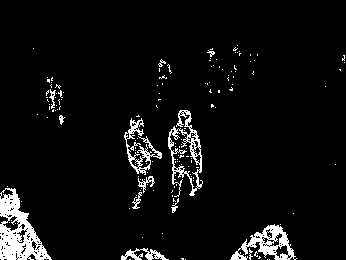person: (1, 182, 56, 260), (122, 113, 163, 209), (168, 109, 204, 208)
